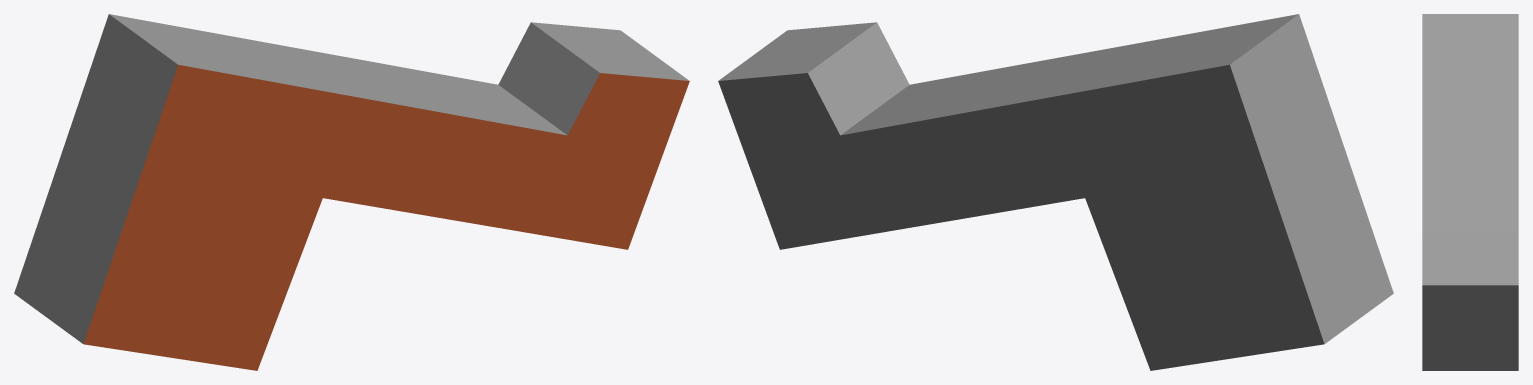
File: construction_3980_assumed_A_Casa_h6m.obj
3 renders of one model, left to right at view 1: azimuth 30°, elevation 25°; view 2: azimuth 150°, elevation 25°; view 3: azimuth 270°, elevation 25°, orthographic. The views are drawn at different scales.
Visible parts, largest first — view 1: construction_3980_assumed_A_Casa; view 2: construction_3980_assumed_A_Casa; view 3: construction_3980_assumed_A_Casa.
Part boxes in pixels (x1,y1,x2,y2): construction_3980_assumed_A_Casa: (14,14,689,370); construction_3980_assumed_A_Casa: (718,14,1393,370); construction_3980_assumed_A_Casa: (1422,14,1518,370).
Size of the model in its own units: 30.31 by 15.55 by 6.
